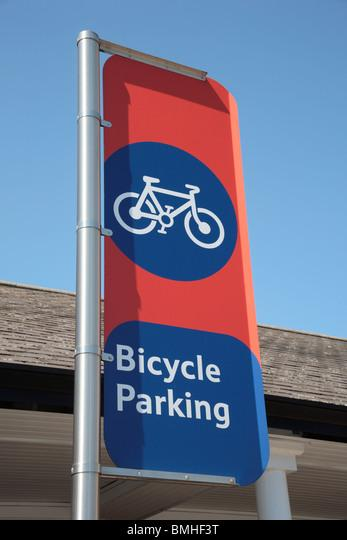Parking Lot Cycle: (89, 112, 247, 431)
